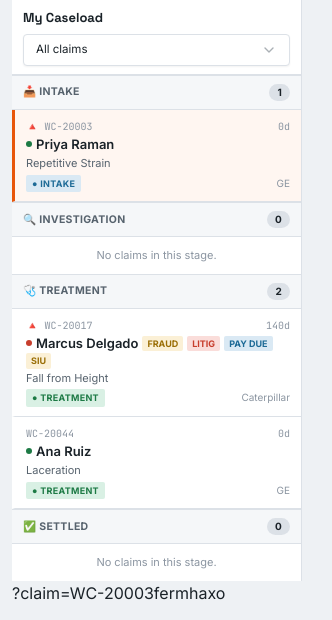
Test: clicking a card moves both the highlight and the URL
Check: the text with test id "location" shows "claim=WC-20003", box [12,582,154,602]
Click the button with test id "queue-card": point(70, 324) [12,308,301,416]
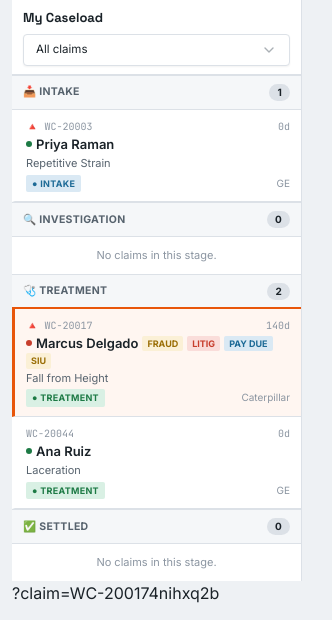
Check: the text with test id "location" shows "claim=WC-20017", box [12,582,148,602]
